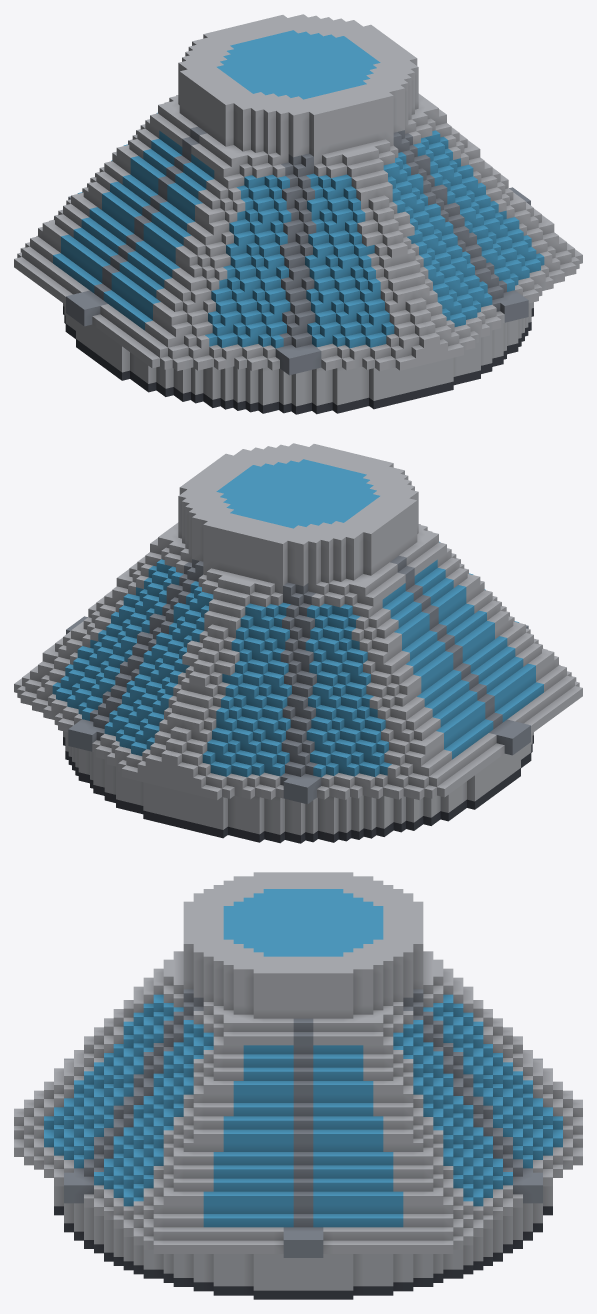
The model's file is cupola.glb.
3 renders of one model, top to bottom at view 1: azimuth 30°, elevation 25°; view 2: azimuth 150°, elevation 25°; view 3: azimuth 270°, elevation 25°, orthographic. The views are drawn at different scales.
Visible parts, largest first — view 1: cupola; view 2: cupola; view 3: cupola.
Part boxes in pixels (x1,y1,x2,y2): cupola: (14,14,582,414); cupola: (14,443,582,843); cupola: (14,872,582,1299).
Bounding box in the file's own units: 2.8 × 1.5 × 2.85.
